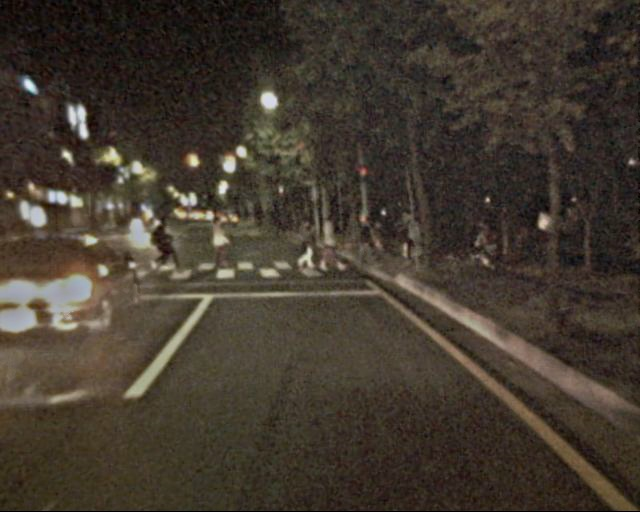person: (295, 213, 322, 277), (402, 210, 428, 270), (317, 214, 342, 275), (152, 212, 177, 273), (205, 212, 230, 272), (359, 213, 381, 273)
